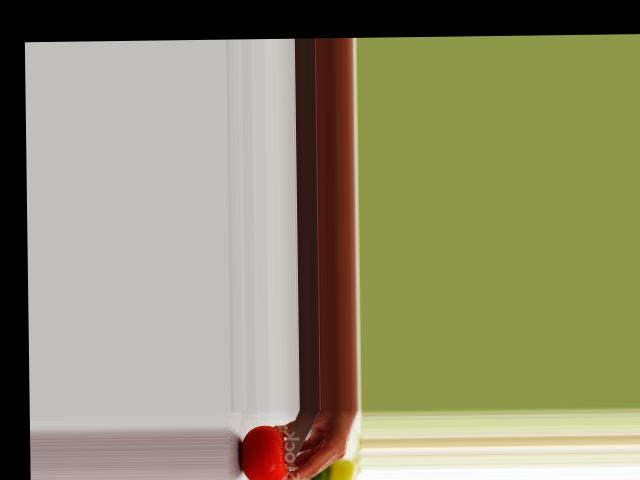tomato: (239, 424, 288, 480)
